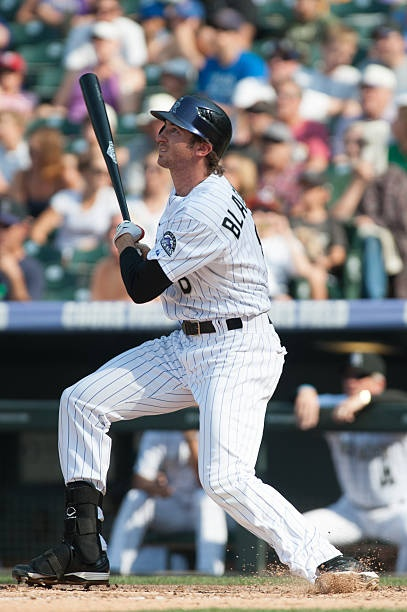bita: (80, 72, 135, 233)
